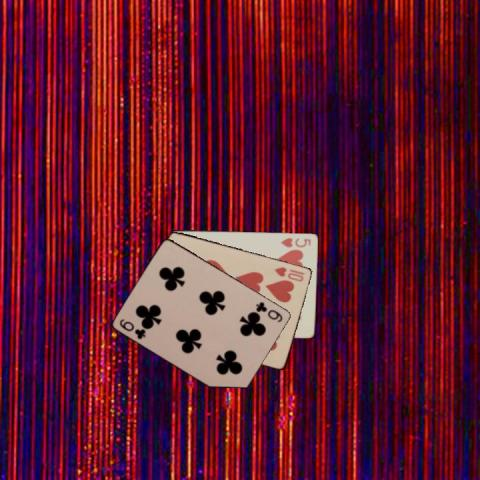10h: (271, 264, 307, 283)
5h: (277, 235, 312, 248)
6c: (253, 299, 284, 324), (117, 316, 147, 341)
